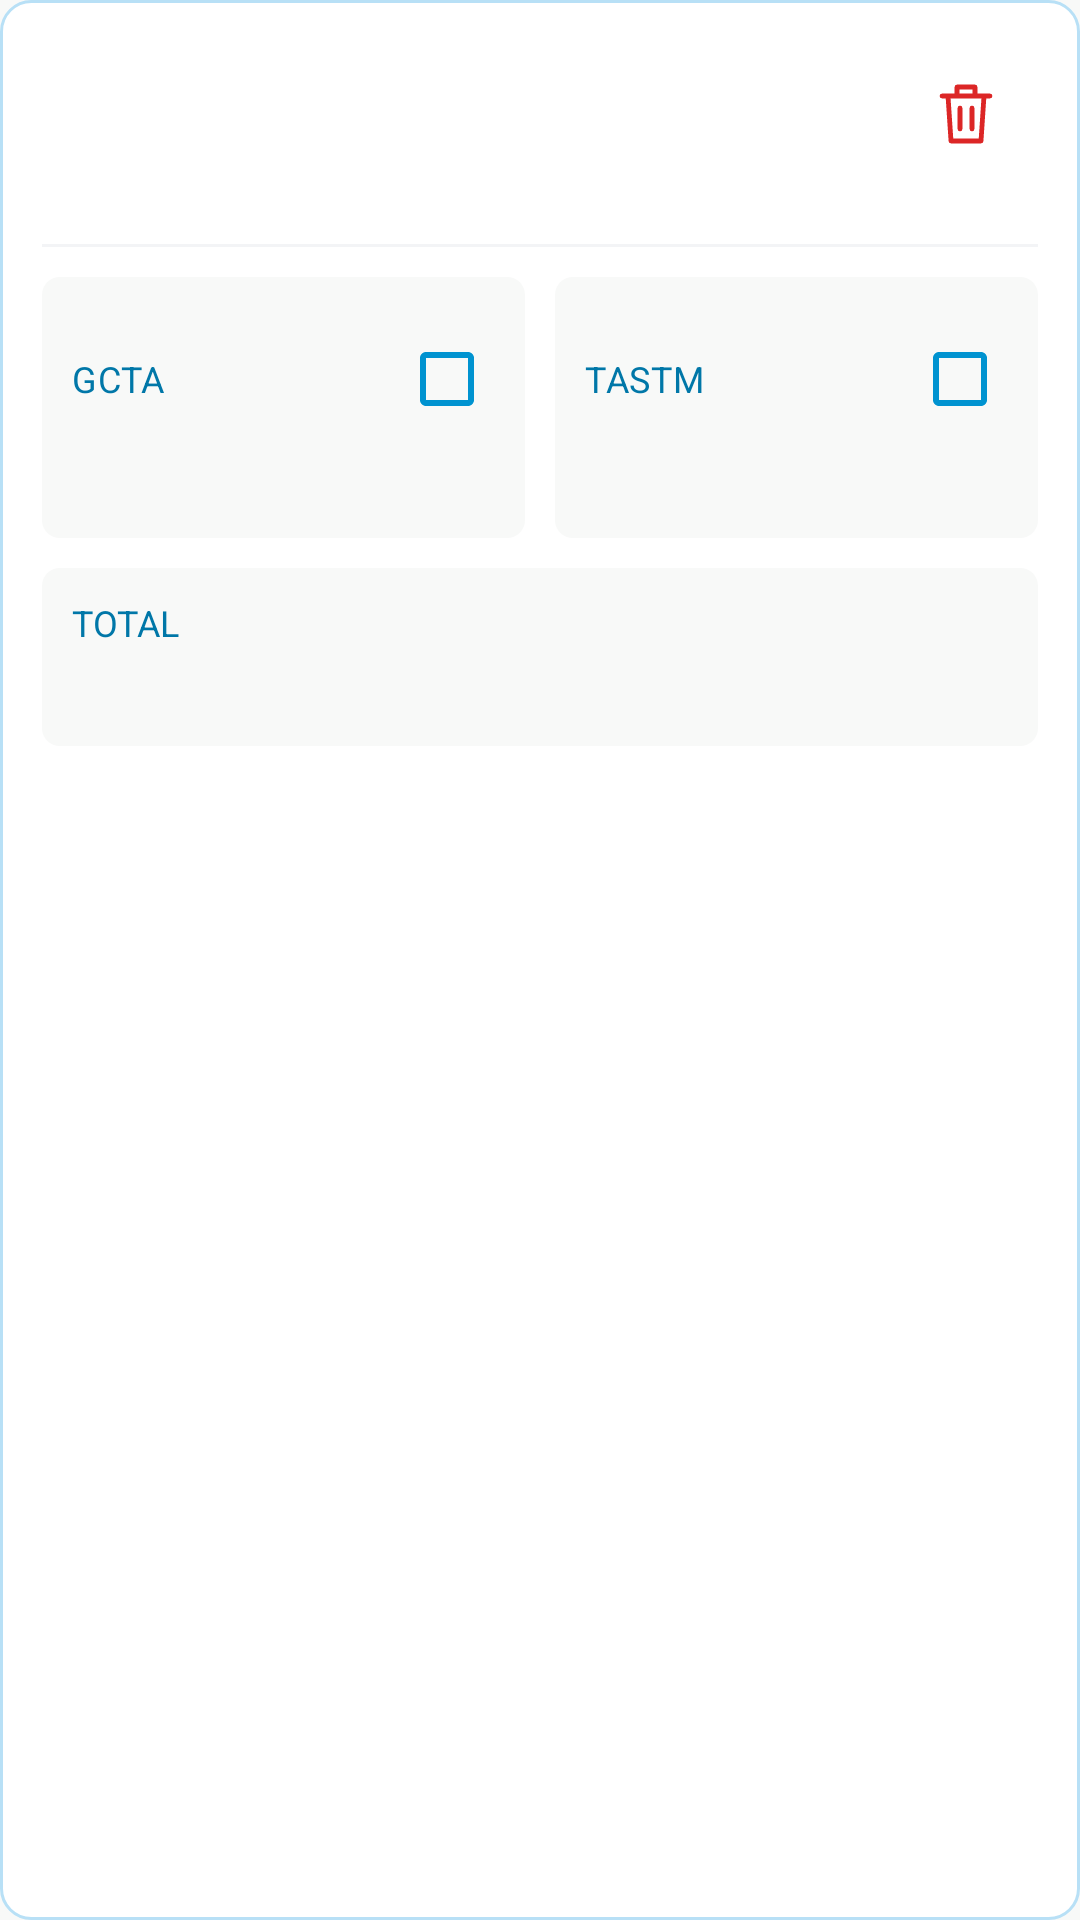

Icon bounding boxes for this 1080px×1920px phone screenshot, format bbox(x1, y1, x2, y2):
deduction trash: bbox(939, 84, 993, 144)
